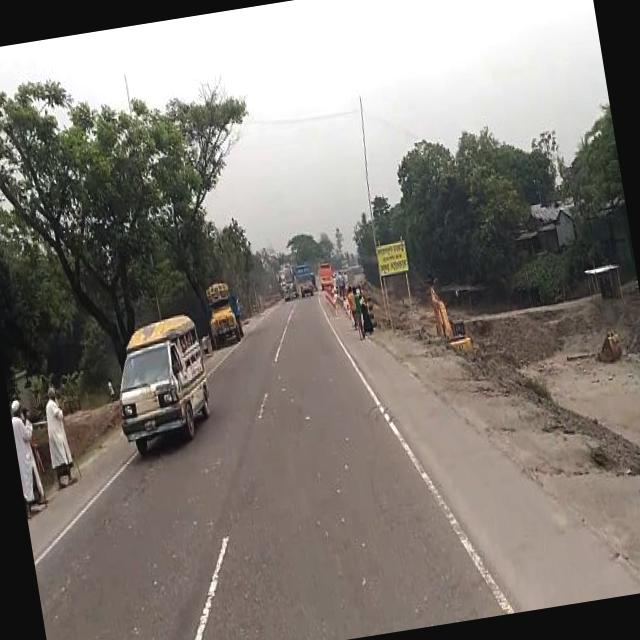bus: (106, 302, 220, 454), (276, 258, 301, 300), (318, 259, 336, 289), (311, 268, 319, 289)
truck: (204, 277, 250, 348), (296, 260, 316, 296)
